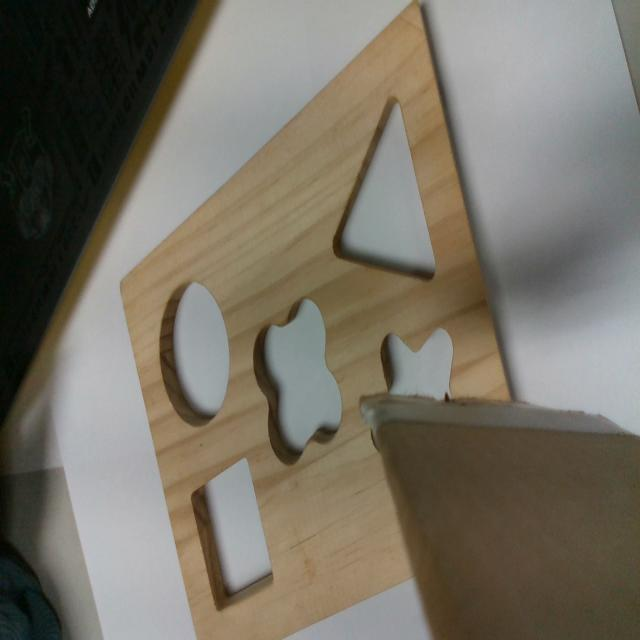circle: (160, 282, 231, 428)
flower: (252, 295, 343, 470)
square: (187, 454, 278, 616)
star: (382, 328, 456, 399)
triangle: (330, 90, 438, 276)
